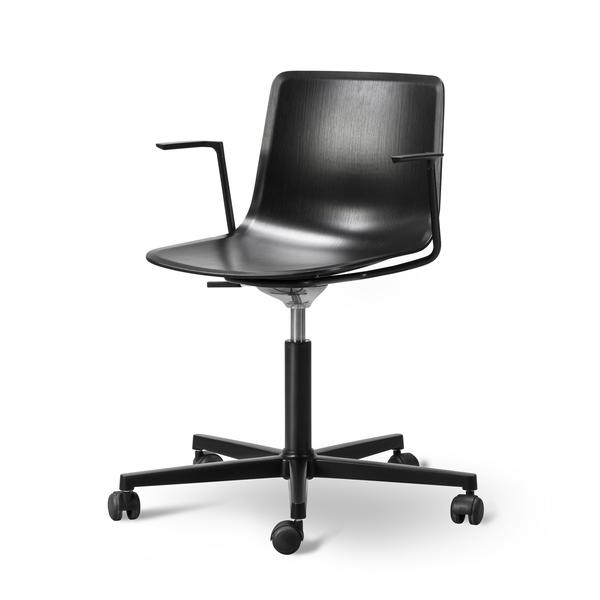chairs: (99, 68, 486, 554)
